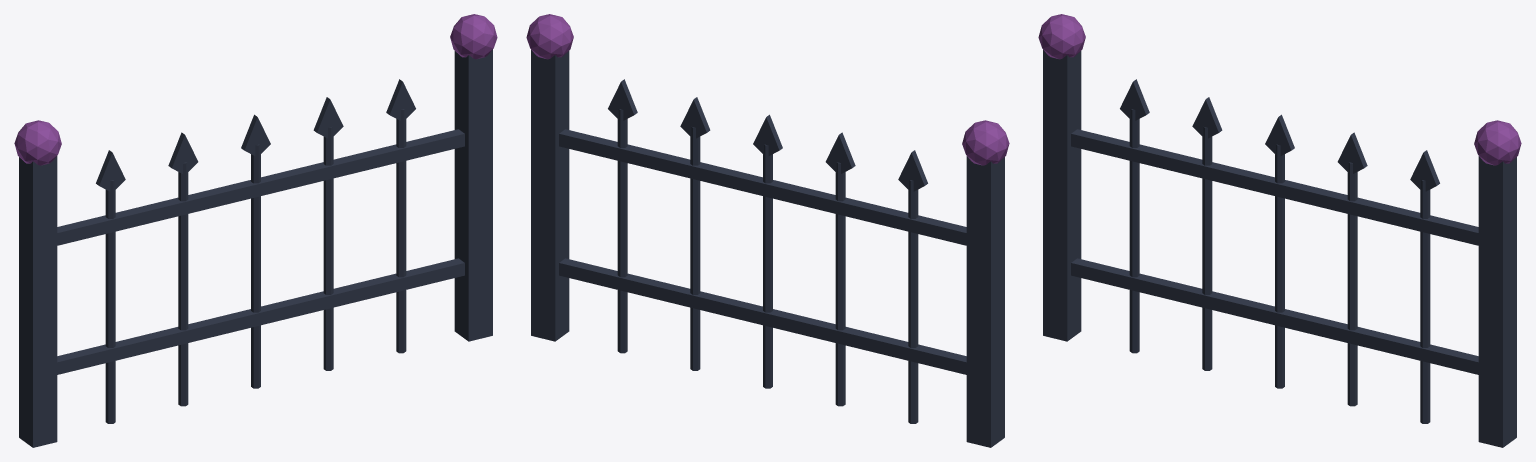
File: moonlit-mischief-gothic-fence-1127159b__2215.glb
3 renders of one model, left to right at view 1: azimuth 30°, elevation 25°; view 2: azimuth 150°, elevation 25°; view 3: azimuth 330°, elevation 25°, orthographic.
Visible parts, largest first — view 1: gothic-fence; view 2: gothic-fence; view 3: gothic-fence.
Part boxes in pixels (left/top/right/bottom): gothic-fence: left=14, top=14, right=497, bottom=447; gothic-fence: left=526, top=14, right=1009, bottom=447; gothic-fence: left=1038, top=14, right=1521, bottom=447.
Size of the model in its own units: 1.97 by 1.25 by 0.17.
